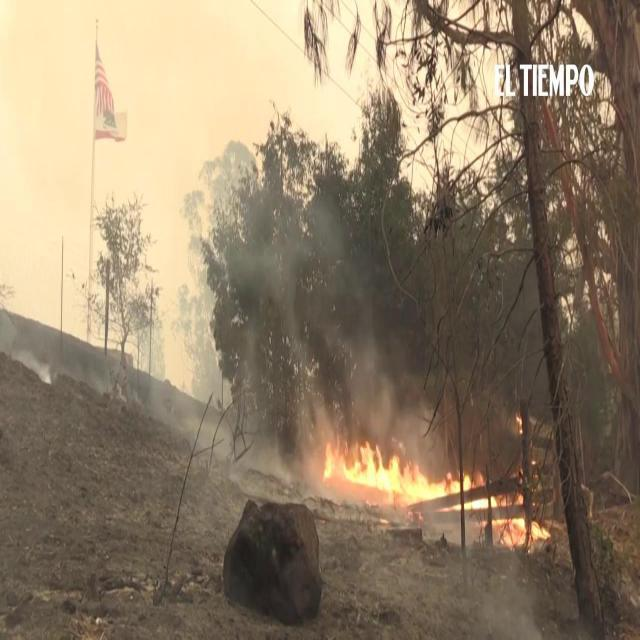Fire: (328, 436, 498, 508), (499, 516, 549, 548)
